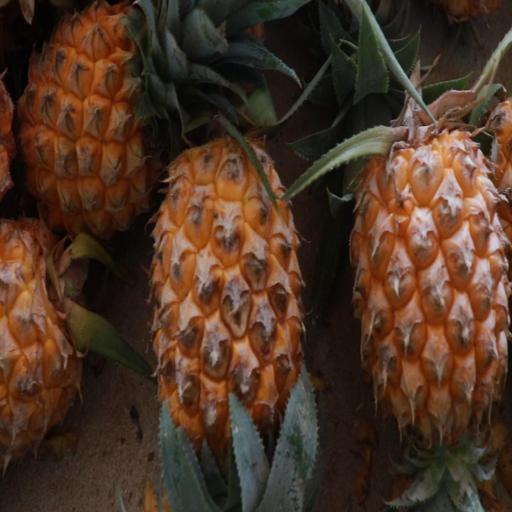Pineapple - v8 v1: (141, 121, 309, 511), (344, 99, 512, 469), (7, 0, 188, 248), (0, 206, 101, 484)
